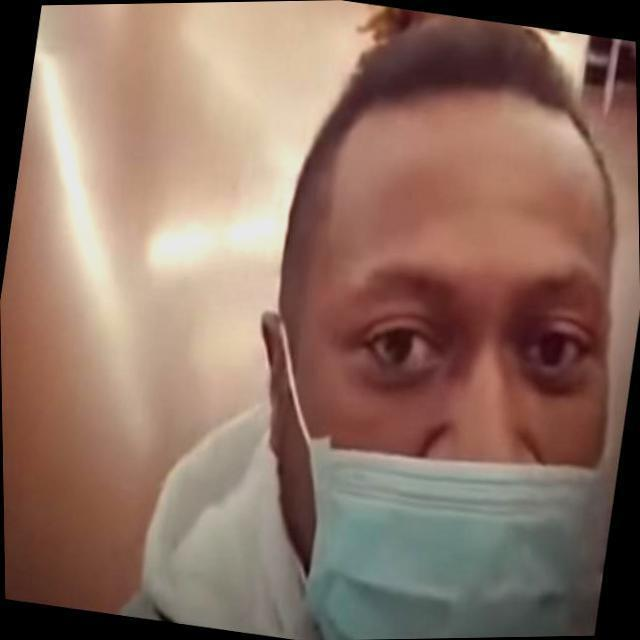mask: (316, 467, 602, 640)
no_gloves: (316, 8, 619, 226)
